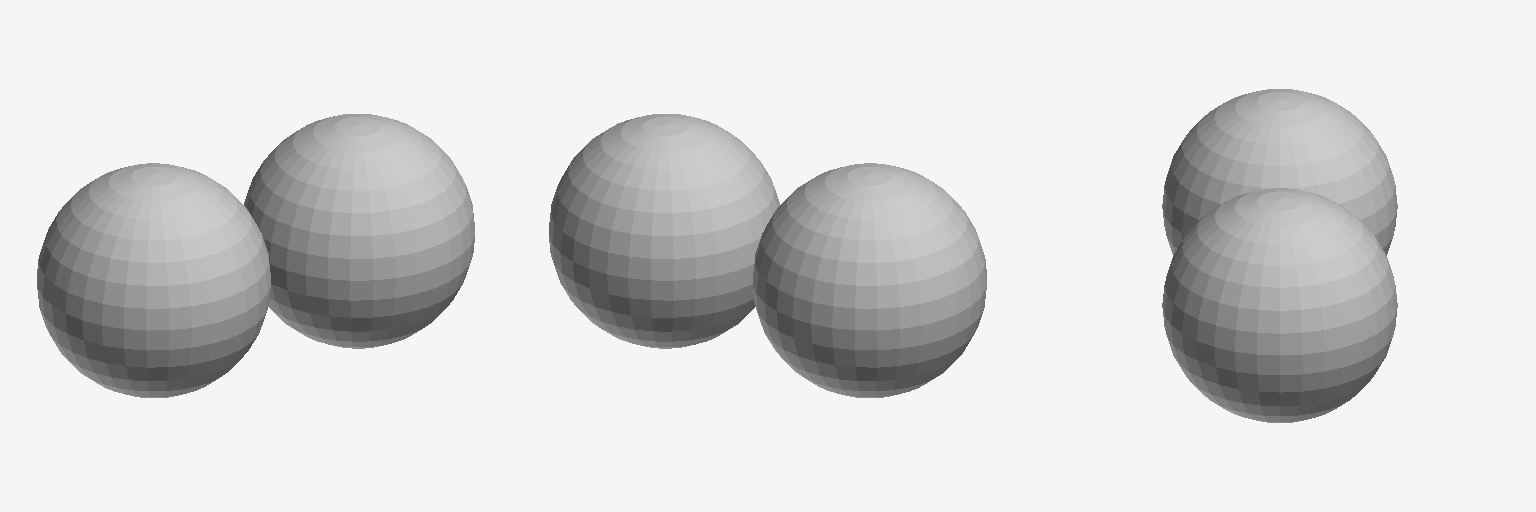
File: ogonsvart.obj
3 views of the same model, side by side, from view 1: azimuth 30°, elevation 25°; view 2: azimuth 150°, elevation 25°; view 3: azimuth 270°, elevation 25° (orthographic).
Parts seen in each view (by area): view 1: ogon_svart_Sphere.002, ogon_svart.001_Sphere.002; view 2: ogon_svart_Sphere.002, ogon_svart.001_Sphere.002; view 3: ogon_svart.001_Sphere.002, ogon_svart_Sphere.002.
Boxes of the visible parts, box(x1,y1,x2,y2) form: ogon_svart_Sphere.002: box(37, 163, 270, 397); ogon_svart.001_Sphere.002: box(244, 114, 474, 348); ogon_svart_Sphere.002: box(753, 163, 986, 397); ogon_svart.001_Sphere.002: box(549, 114, 779, 348); ogon_svart.001_Sphere.002: box(1162, 188, 1397, 422); ogon_svart_Sphere.002: box(1162, 89, 1397, 255).
Size of the model in its own units: 0.8 by 0.4 by 0.4.